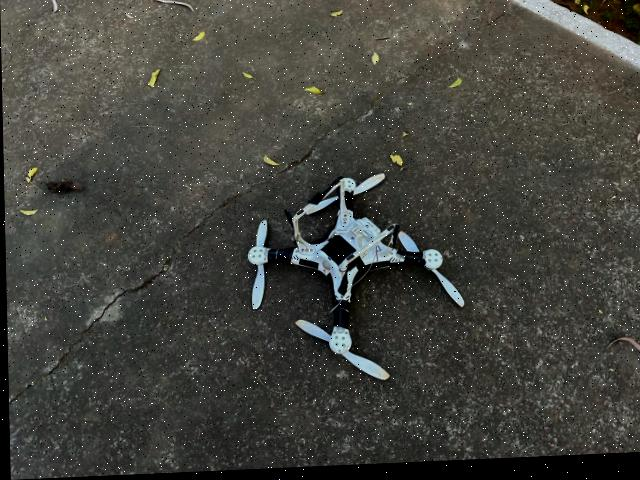drone: (178, 120, 521, 408)
